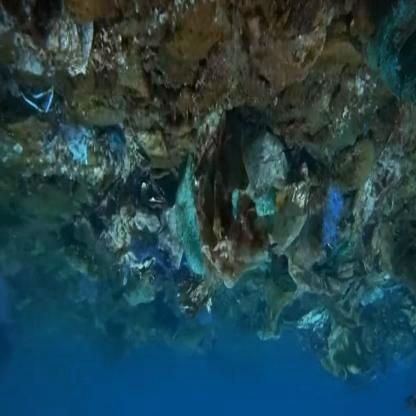plastic: (77, 124, 298, 329)
